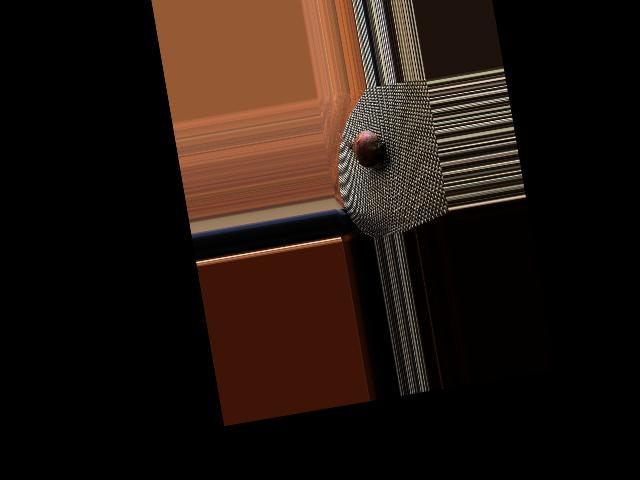beet: (338, 121, 391, 176)
